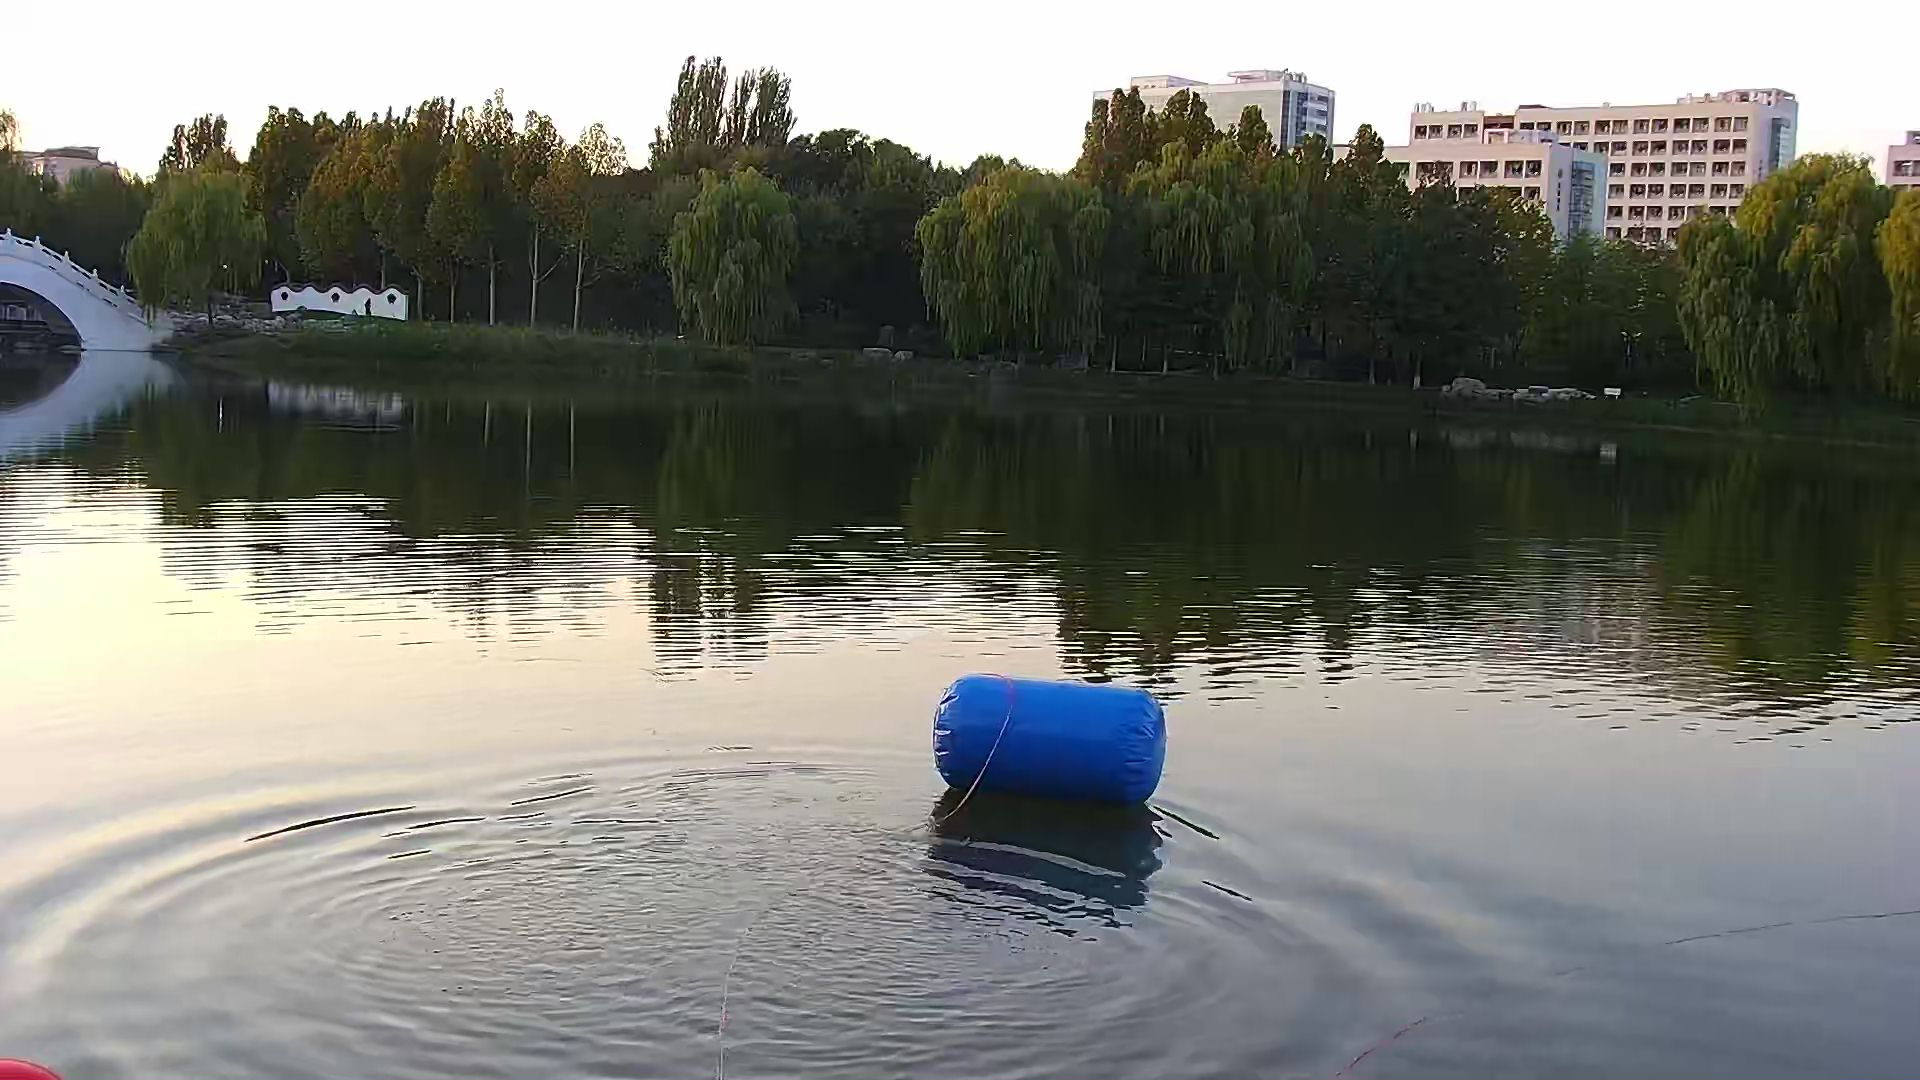rubbish: (916, 662, 1176, 816)
